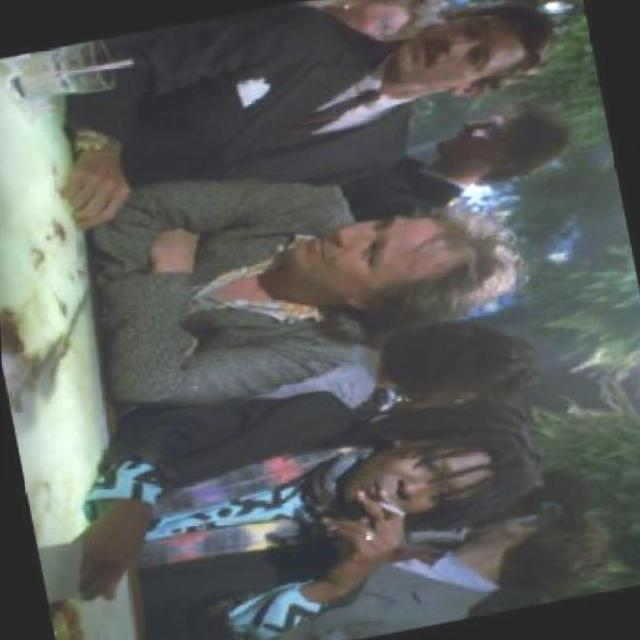smoke: (372, 492, 407, 521)
